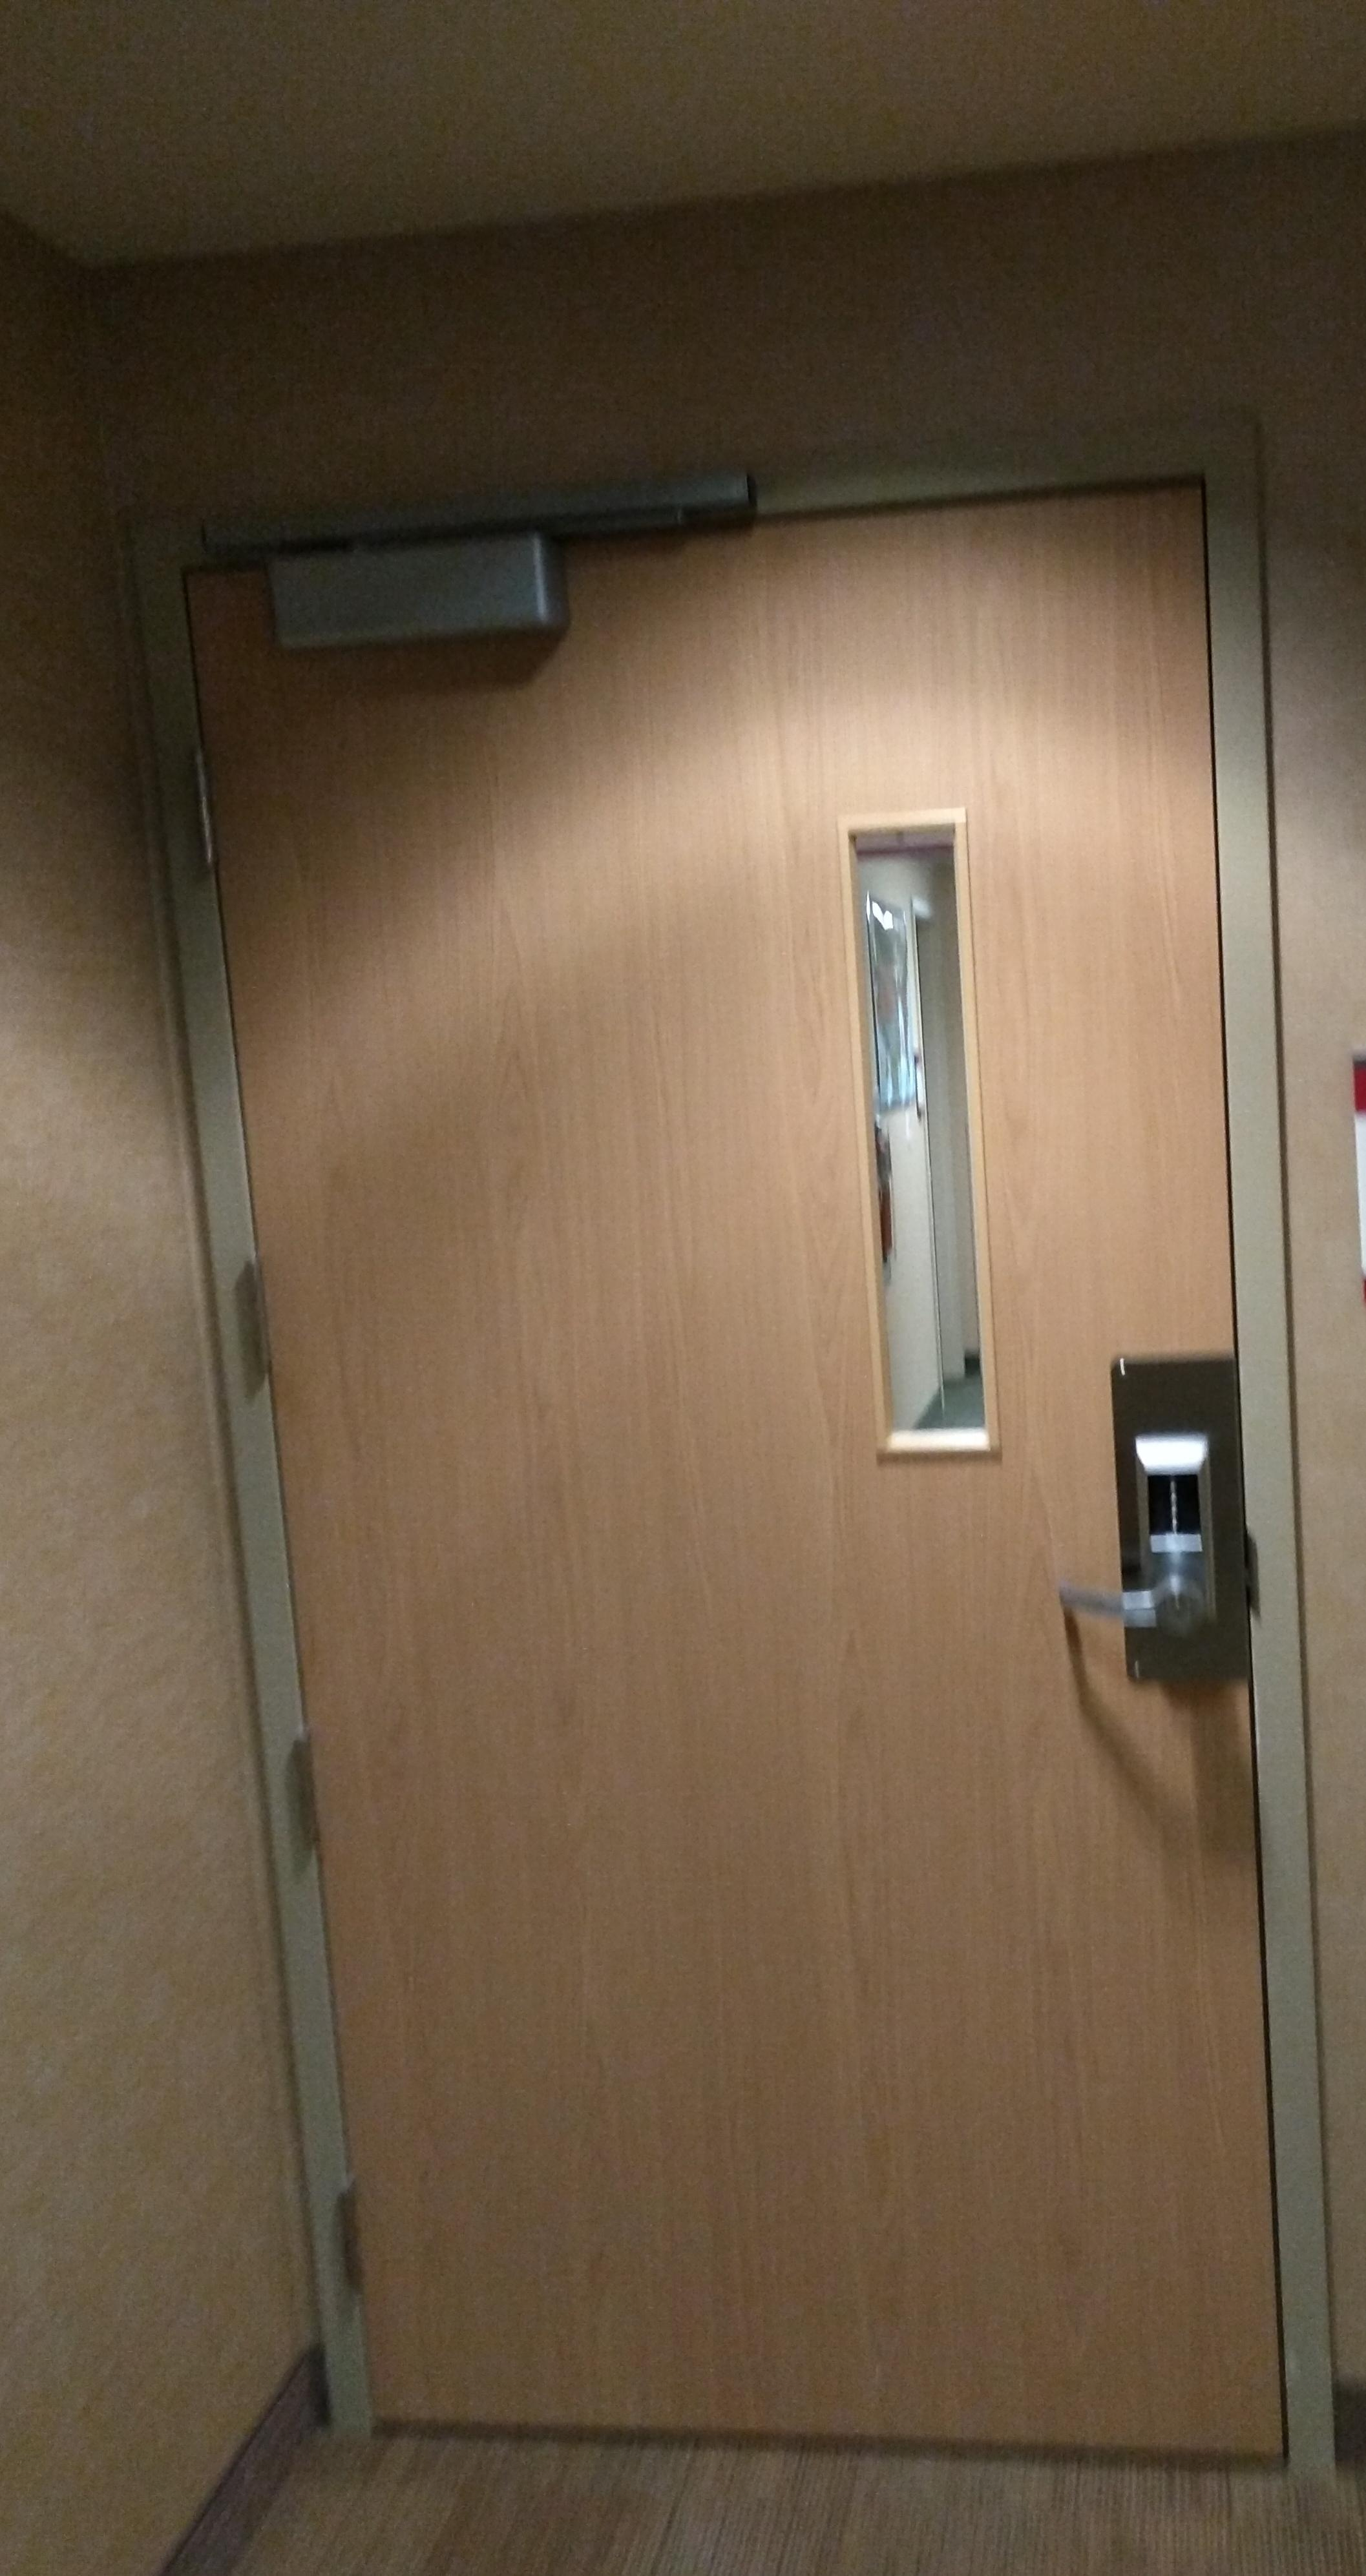door: (338, 625, 1224, 2440)
handle: (1056, 1538, 1204, 1731)
